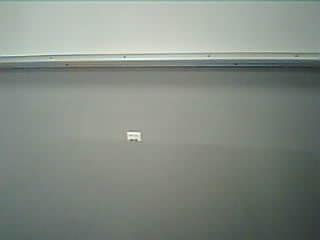-: (1, 0, 320, 240)
